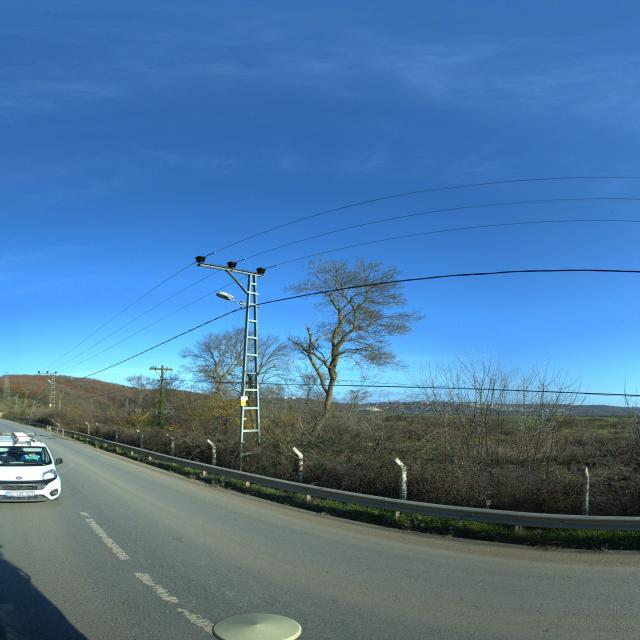Utility Pole Information Plate: (241, 400, 246, 406)
